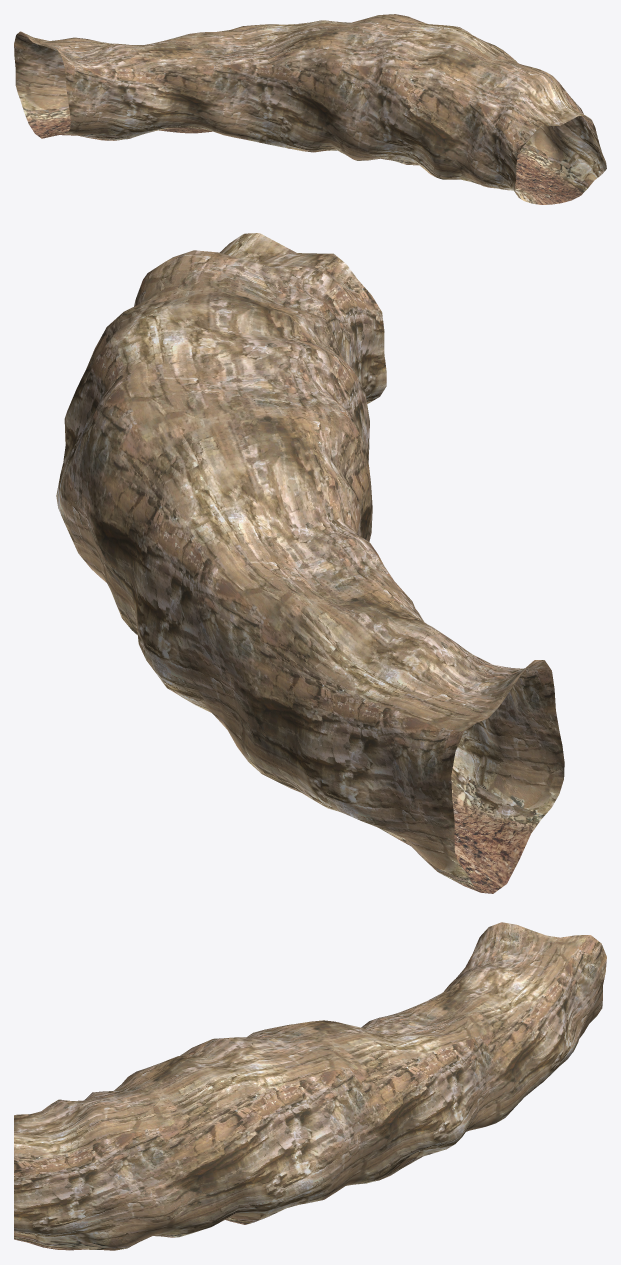
The model's file is thm_tato_cave_s02_r20_mesh_r20.fbx.
The picture shows the model from 3 angles, top to bottom: view 1: azimuth 30°, elevation 25°; view 2: azimuth 150°, elevation 25°; view 3: azimuth 270°, elevation 25°; orthographic projection. The views are drawn at different scales.
Visible parts, largest first — view 1: mesh_node; view 2: mesh_node; view 3: mesh_node.
Boxes of the visible parts, x1,y1,x2,y2 form: mesh_node: [14, 14, 606, 204]; mesh_node: [56, 233, 564, 893]; mesh_node: [14, 922, 606, 1250].
Bounding box in the file's own units: 38.3 × 12.49 × 42.74.
